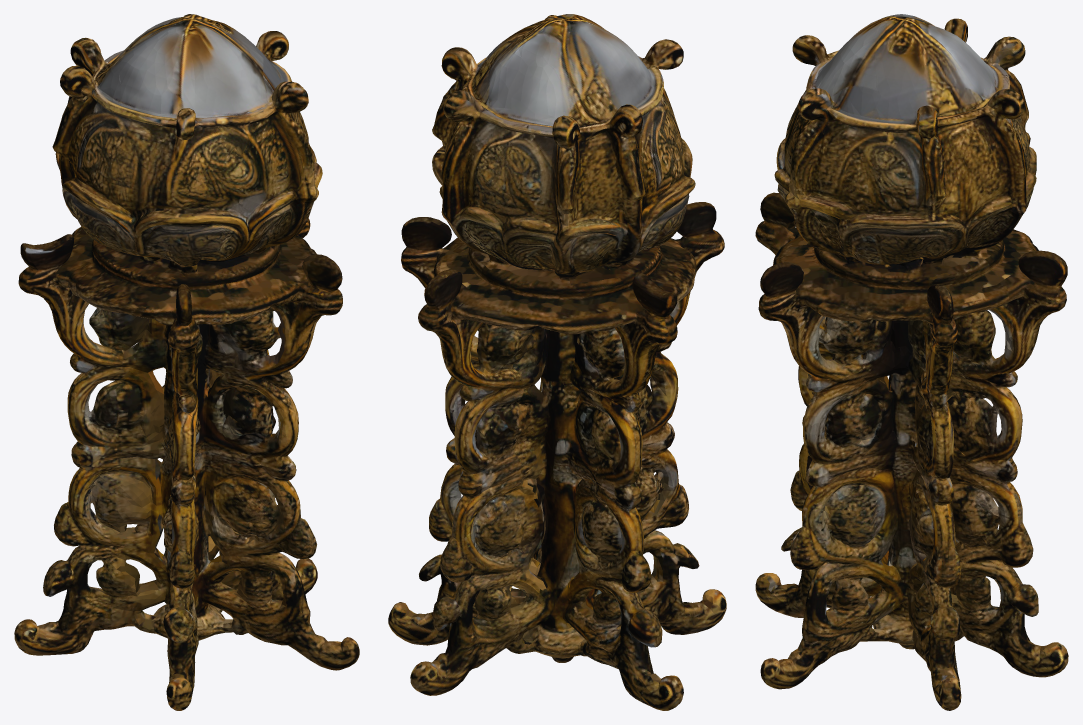
3 views of the same model, side by side, from view 1: azimuth 30°, elevation 25°; view 2: azimuth 150°, elevation 25°; view 3: azimuth 270°, elevation 25° (orthographic).
Visible parts, largest first — view 1: textured_mesh; view 2: textured_mesh; view 3: textured_mesh.
Boxes of the visible parts, <box> form: textured_mesh: <box>14,14,359,710</box>; textured_mesh: <box>388,14,726,710</box>; textured_mesh: <box>755,14,1068,710</box>.
Bounding box in the file's own units: 0.9759 × 1.99 × 0.8991.
1 material, 1 textured.
